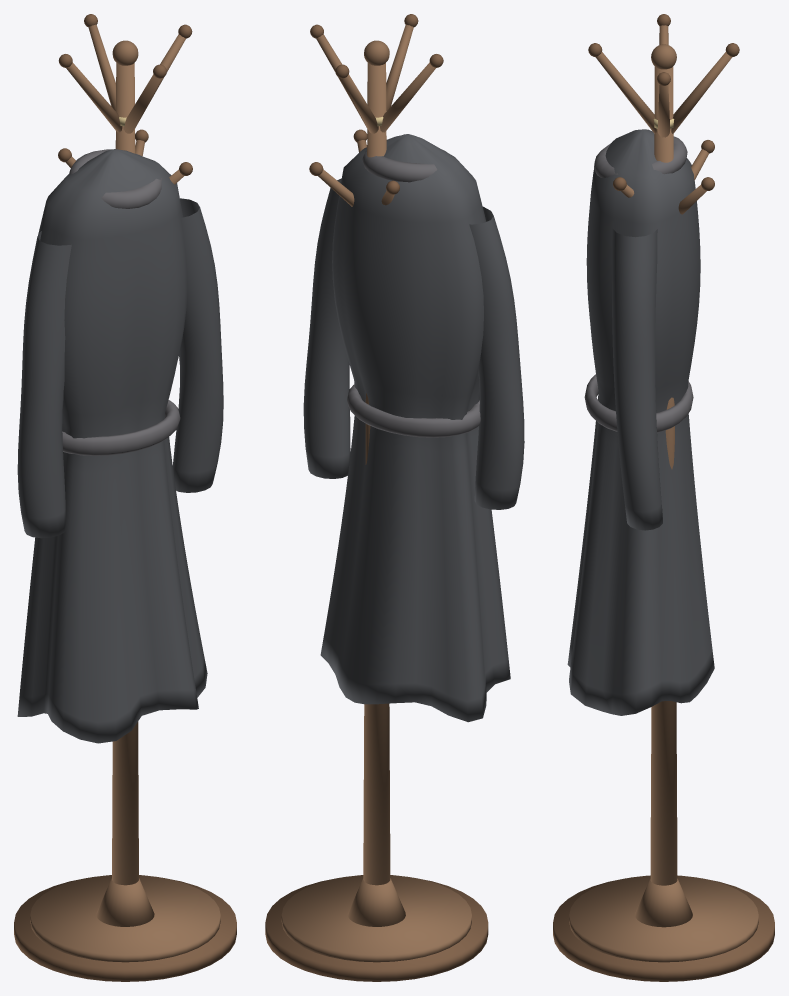
File: prop_coat_rack.glb
3 renders of one model, left to right at view 1: azimuth 30°, elevation 25°; view 2: azimuth 150°, elevation 25°; view 3: azimuth 270°, elevation 25°, orthographic.
Parts seen in each view (by area): view 1: DrapedCoat, CoatSleeve_-1, Cylinder.001, CoatSleeve_1, Cylinder, Cone.001, Torus.001, Cone, Torus, Cone.004, Cone.003, Cone.005 (+1 smaller); view 2: DrapedCoat, Cylinder.001, CoatSleeve_-1, CoatSleeve_1, Cone.001, Cylinder, Torus.001, Cone, Torus, Cone.004, Cone.005, Cone.003; view 3: DrapedCoat, CoatSleeve_1, Cylinder.001, Cone.001, Cylinder, Cone, Torus.001, Torus, Cone.003, Cone.005, Cone.002, Sphere.
Part boxes in pixels (x1,y1,x2,y2): DrapedCoat: (17,149,207,743); CoatSleeve_-1: (17,231,71,538); Cylinder.001: (30,875,220,962); CoatSleeve_1: (172,198,223,492); Cylinder: (14,877,236,981); Cone.001: (112,63,138,885); Torus.001: (62,400,180,455); Cone: (96,878,154,926); Torus: (69,149,161,208); Cone.004: (66,62,122,132); Cone.003: (88,24,115,110); Cone.005: (123,74,160,133); DrapedCoat: (320,134,510,722); Cylinder.001: (281,875,471,962); CoatSleeve_-1: (469,206,524,509); CoatSleeve_1: (303,178,350,478); Cone.001: (363,63,390,885); Cylinder: (265,877,488,981); Torus.001: (347,384,480,437); Cone: (348,878,405,926); Torus: (362,149,446,182); Cone.004: (380,62,435,132); Cone.005: (386,24,413,110); Cone.003: (341,74,378,133); DrapedCoat: (567,129,714,715); CoatSleeve_1: (612,228,662,530); Cylinder.001: (569,875,758,962); Cone.001: (650,66,677,885); Cylinder: (553,878,774,981); Cone: (635,878,692,927); Torus.001: (584,374,693,432); Torus: (594,136,687,178); Cone.003: (671,52,732,133); Cone.005: (595,52,656,133); Cone.002: (657,85,670,137); Sphere: (651,44,676,69).
Size of the model in its own units: 0.4718 by 1.82 by 0.41.
